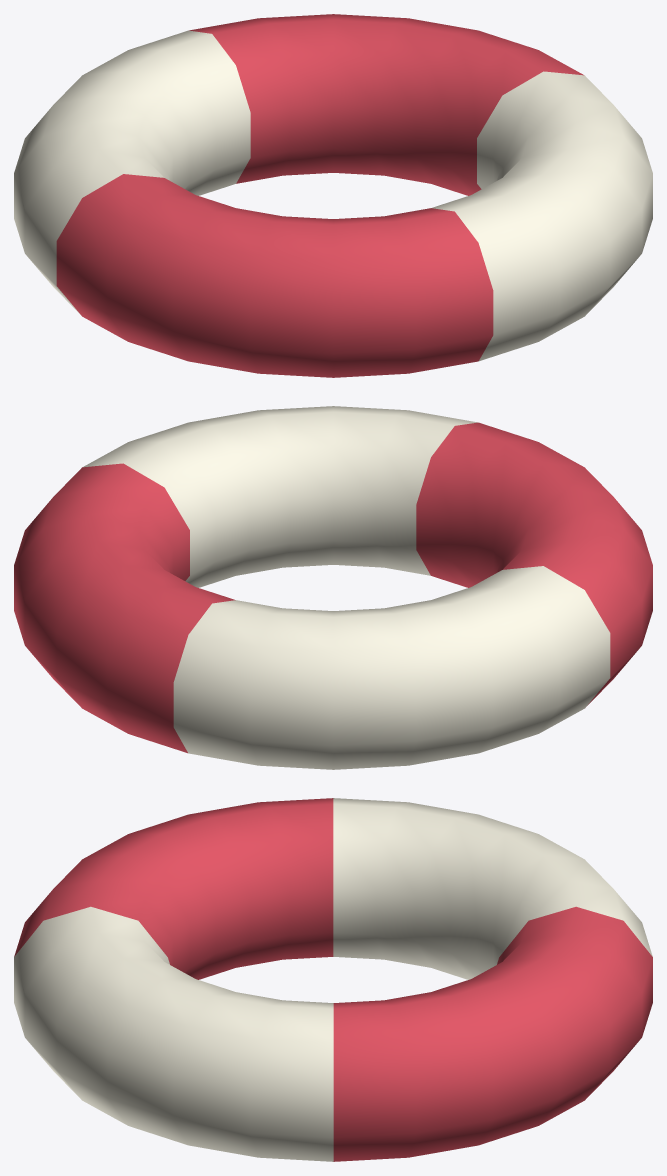
The model's file is buoy.glb.
3 renders of one model, top to bottom at view 1: azimuth 30°, elevation 25°; view 2: azimuth 150°, elevation 25°; view 3: azimuth 270°, elevation 25°, orthographic.
Visible parts, largest first — view 1: Ring; view 2: Ring; view 3: Ring.
Part boxes in pixels (x1,y1,x2,y2): Ring: (14,14,652,377); Ring: (14,406,652,769); Ring: (14,798,652,1161).
Bounding box in the file's own units: 0.7902 × 0.2 × 0.7902.
